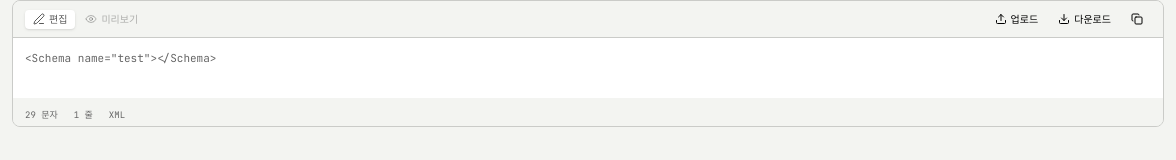
Test case: MondrianXmlEditor › 미리보기에서 편집 버튼 클릭 시 textarea로 복귀한다
The image size is (1176, 160).
Click the button "미리보기".
click(112, 19)  # box [77, 10, 146, 28]
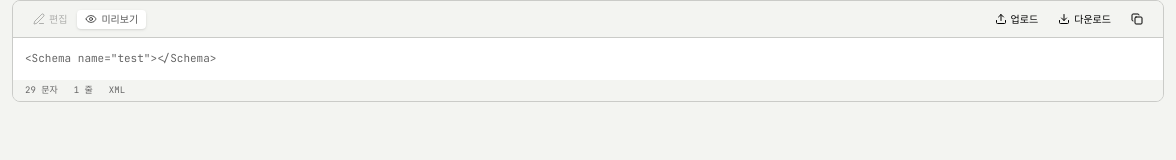
Click the button "편집".
click(50, 19)  # box [25, 10, 75, 28]
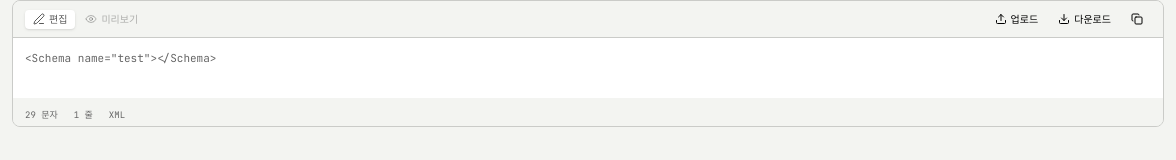
Expected: the text box with placeholder "Mondrian XML을 입력하거나 파일을 업로드하세요..." is shown, [13, 38, 1163, 98]
